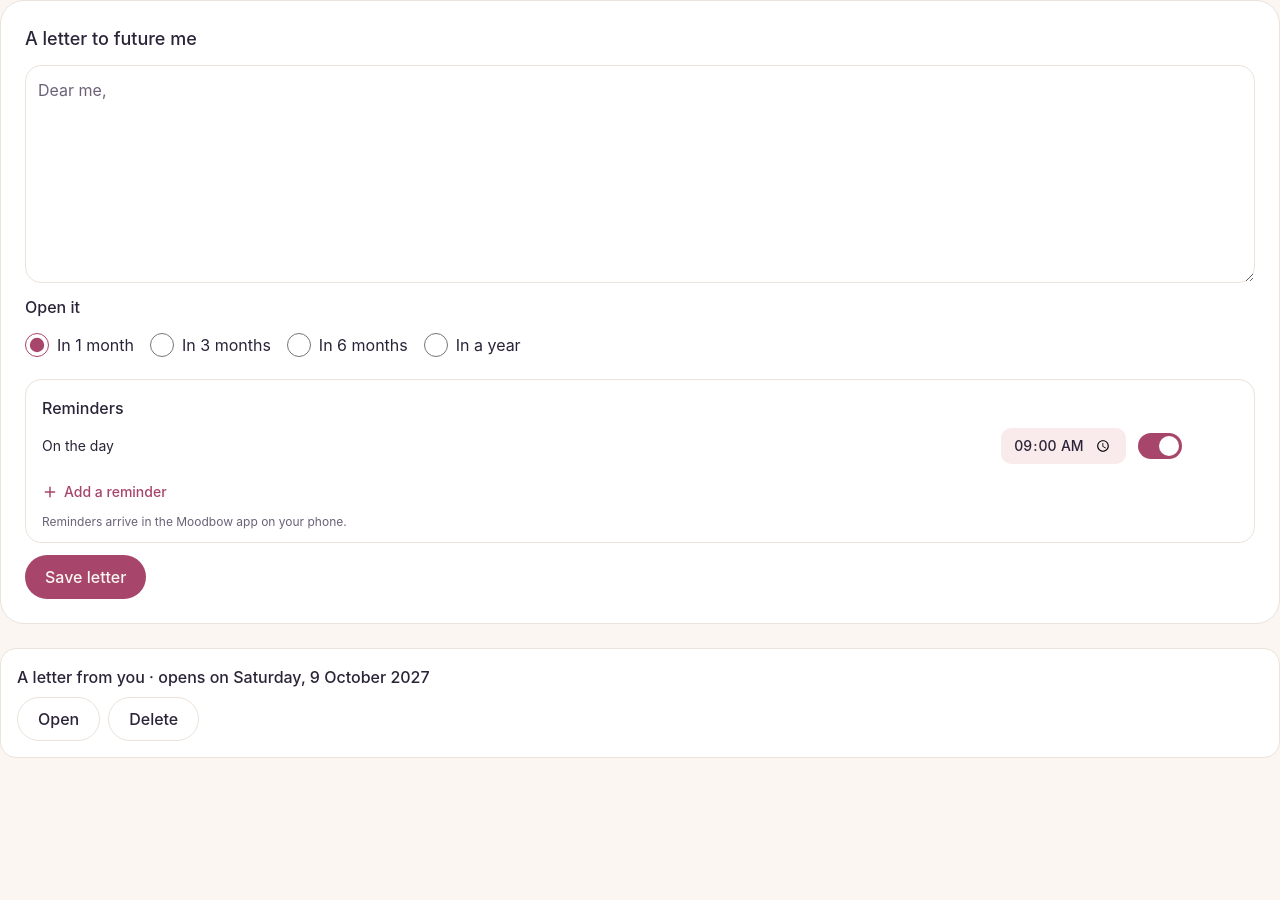
it: LettersEditor › Open early asks first; Keep it for later keeps it; Open now shows its text
The image size is (1280, 900).
Click the button with test id "letter-open": (59, 719) 17,697 -> 100,741
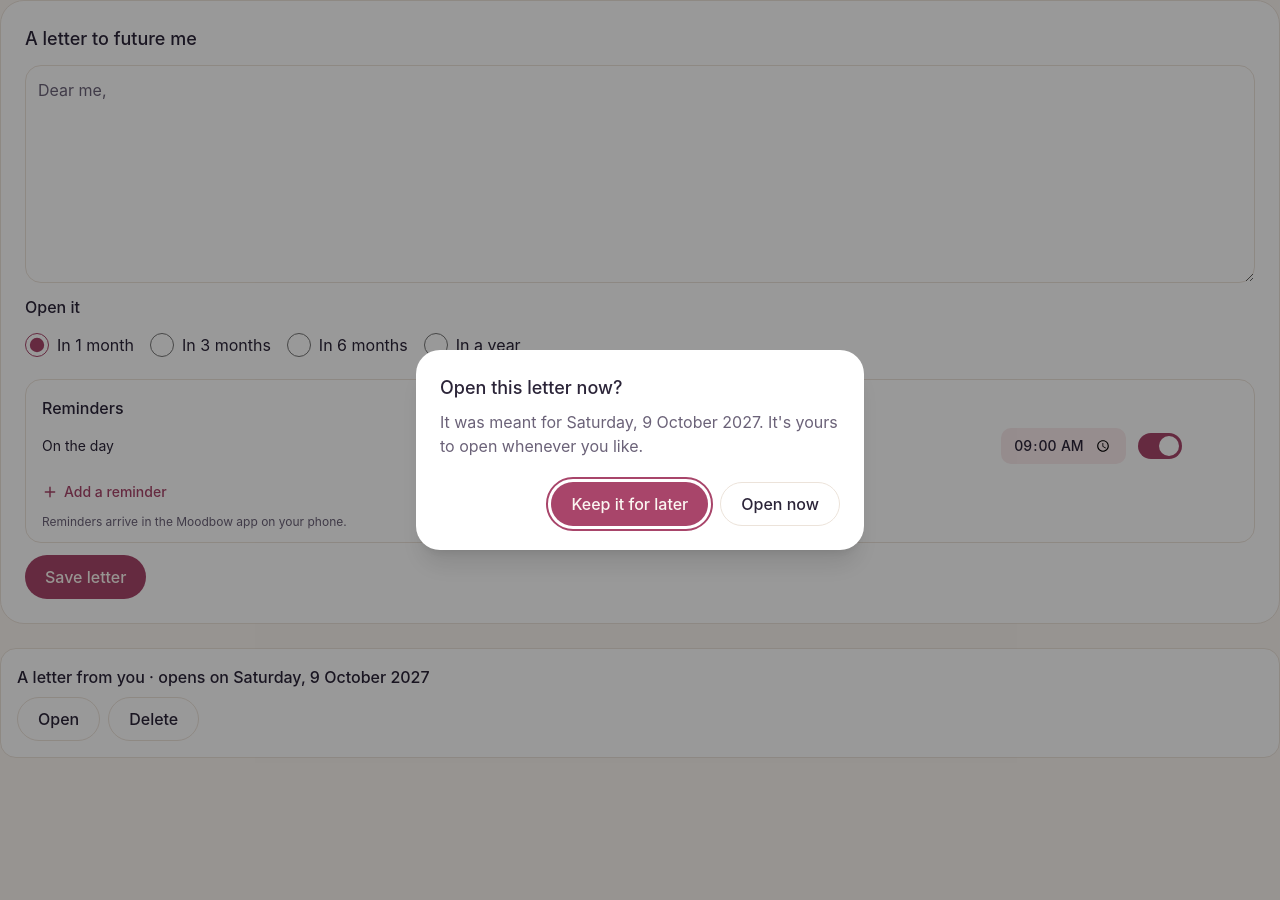
Click the button with test id "letter-keep": (630, 504) 552,482 -> 708,526
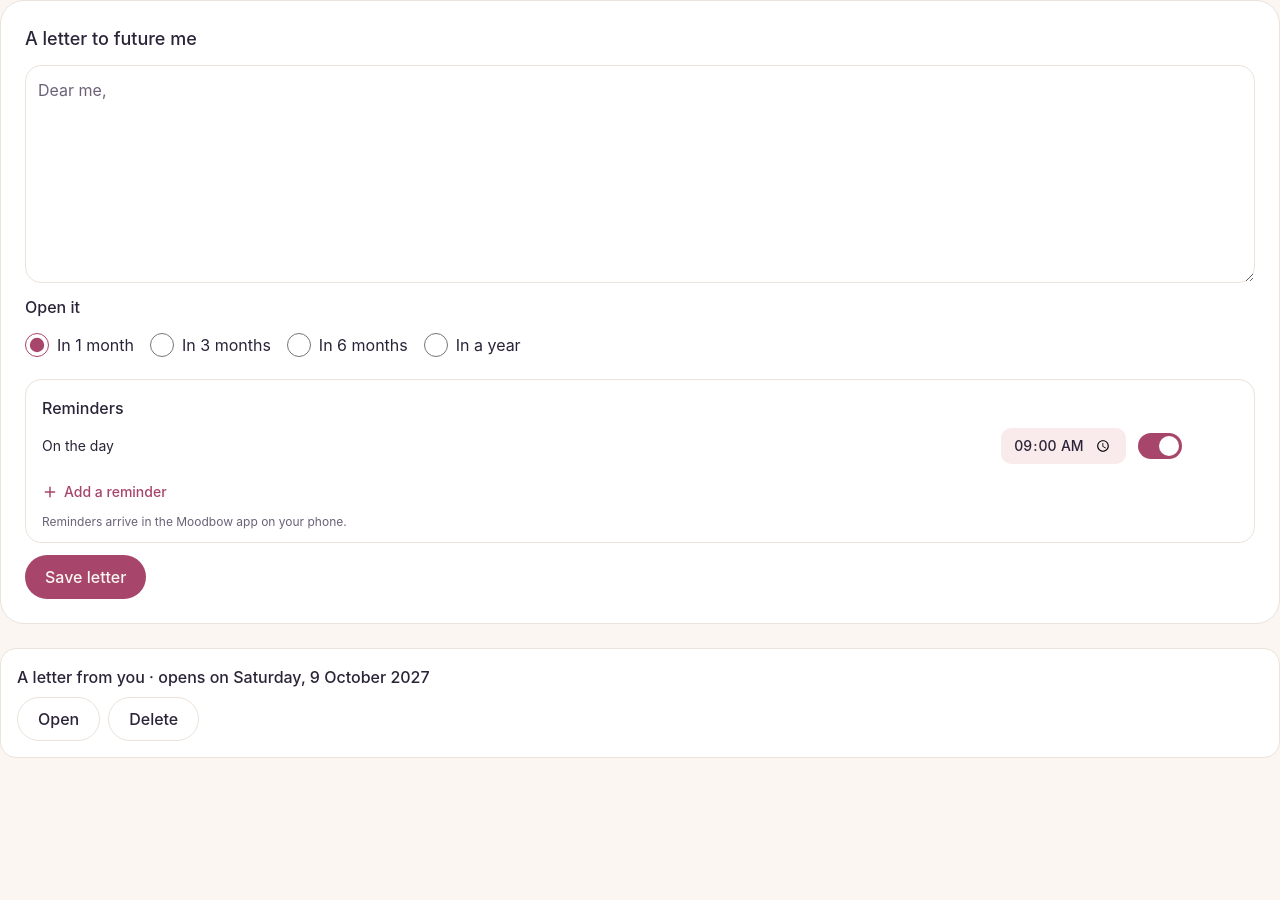
Click the button with test id "letter-open": (59, 719) 17,697 -> 100,741
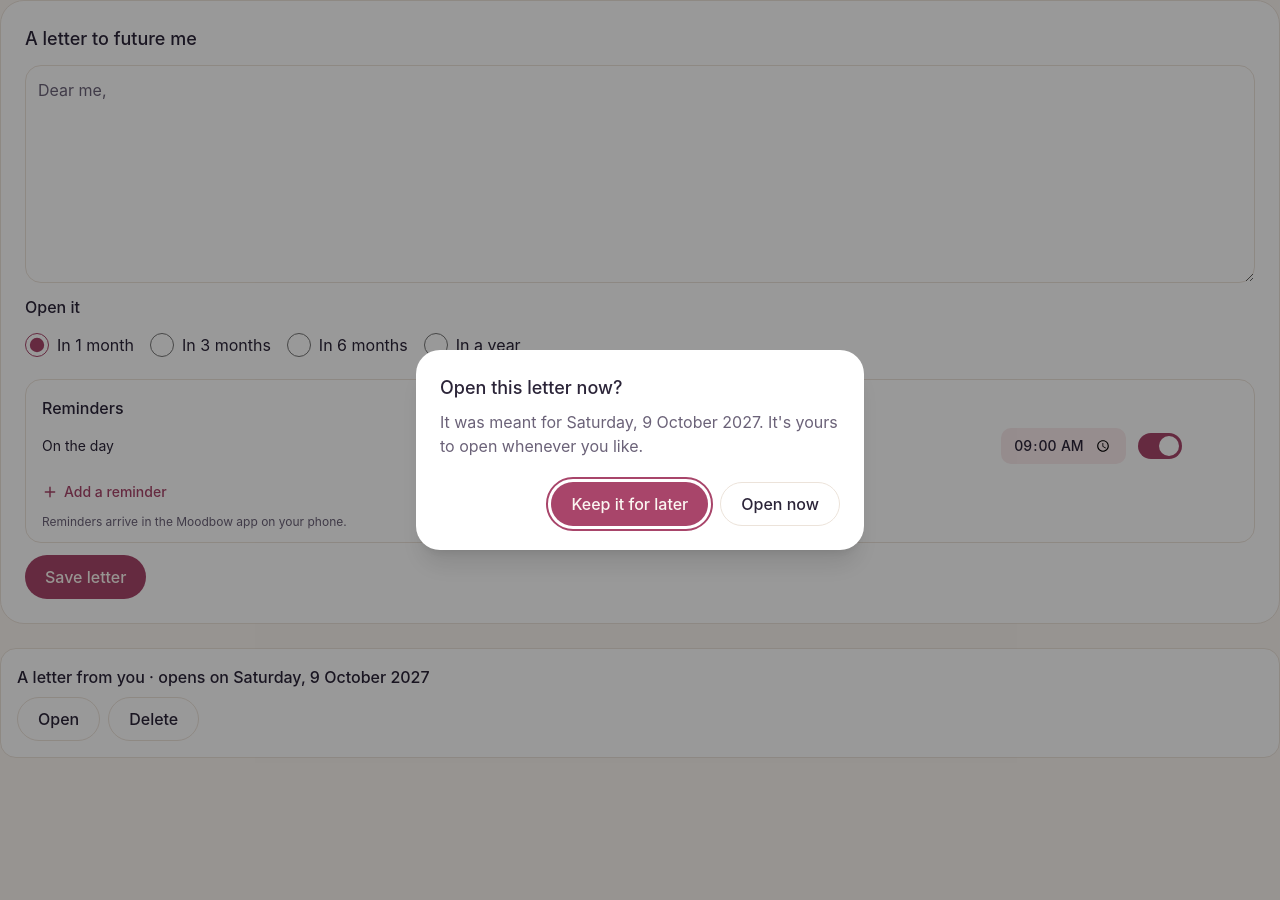
Click the button with test id "letter-open-now": (780, 504) 720,482 -> 840,526
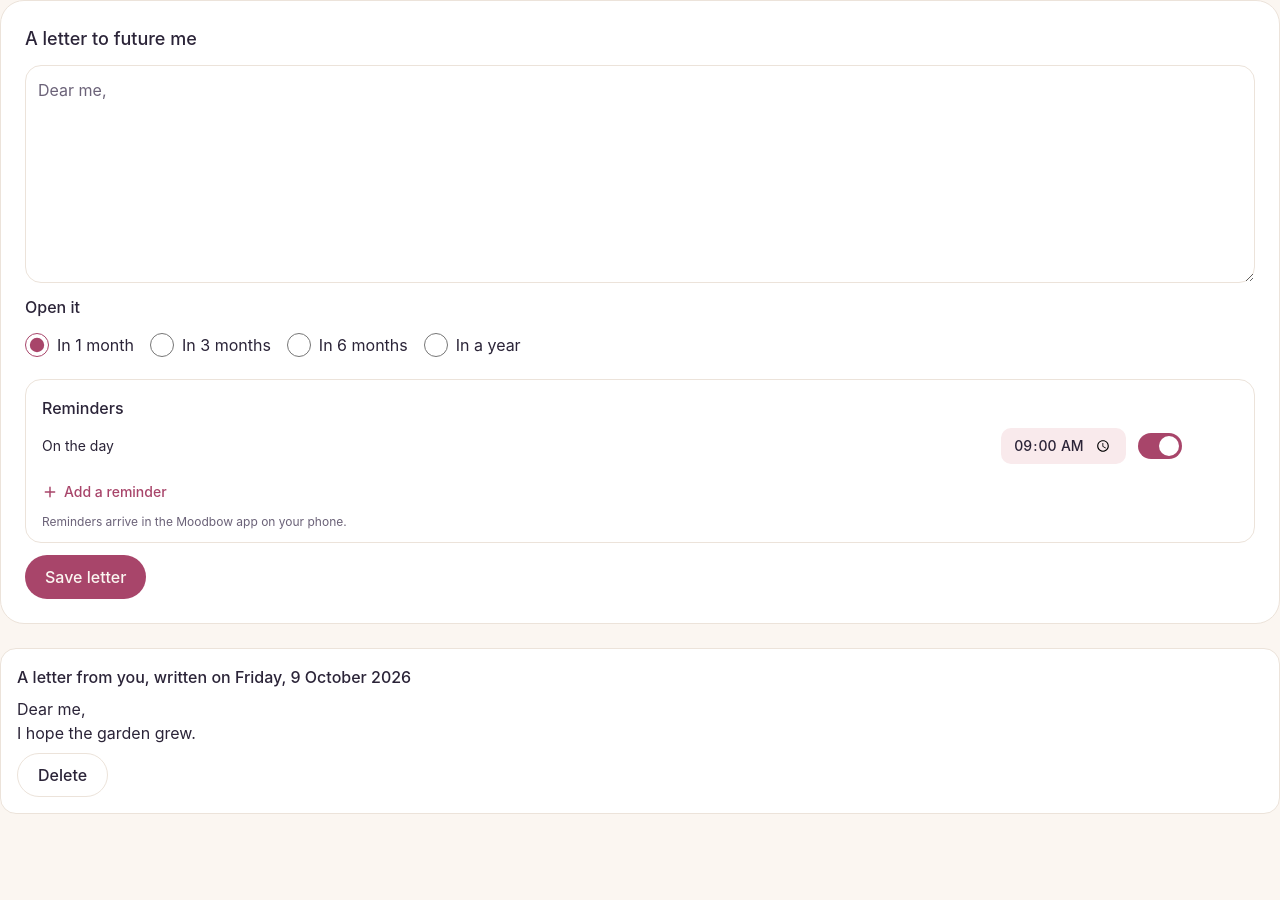
Now the text with test id "letter-body" shows "I hope the garden grew.", box 17,699 -> 196,743
